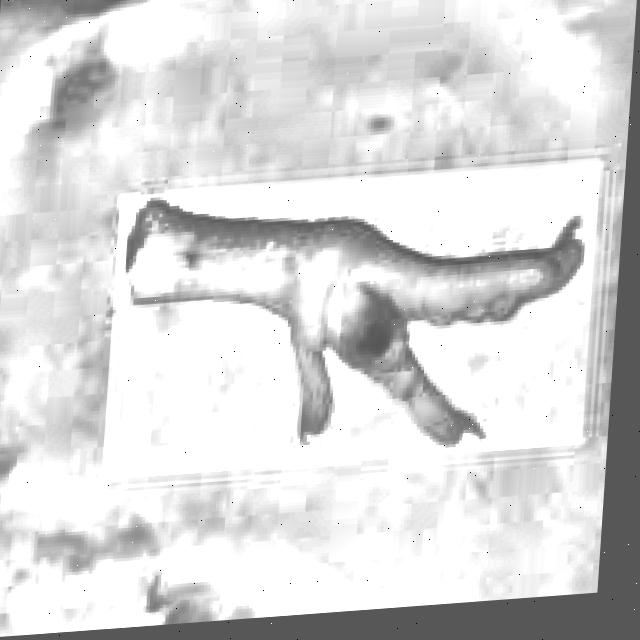Bumble foot: (115, 175, 599, 478), (359, 325, 402, 371)
